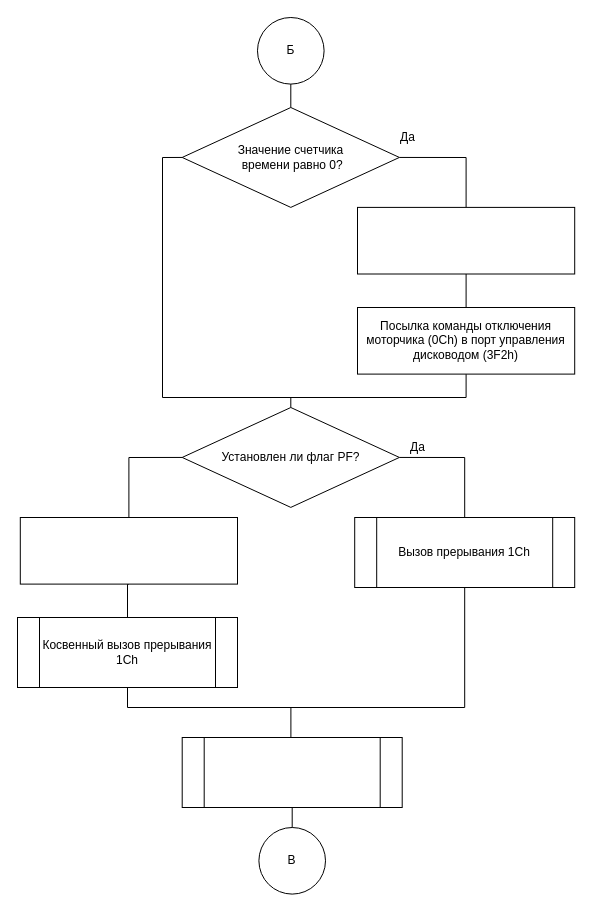
This 593x912 diagram has some shape labels left out. The centre of each missing label's shape, as x and y in pixels:
Вызов sub_2: the point at 291,772
Сохранение регистра флагов EFLAGS: the point at 128,550
Установка флага отключение моторчика дисковода: the point at 465,240
